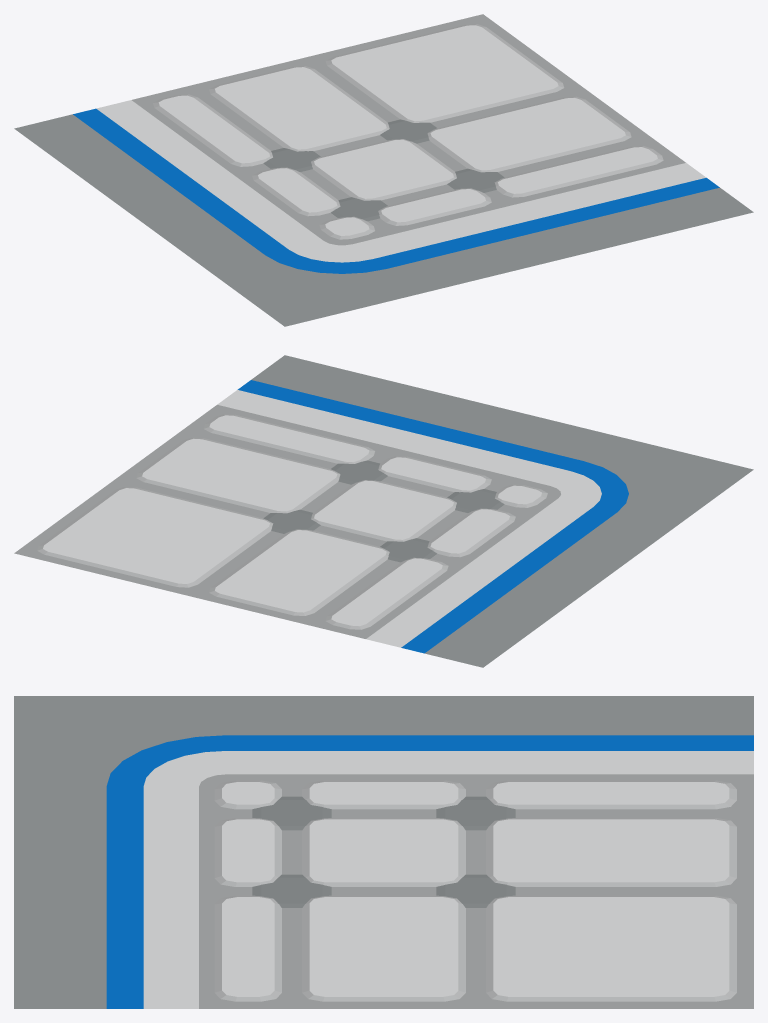
The model's file is Floor_type_A_011.glb.
3 renders of one model, top to bottom at view 1: azimuth 30°, elevation 25°; view 2: azimuth 150°, elevation 25°; view 3: azimuth 270°, elevation 25°, orthographic. The views are drawn at different scales.
Visible parts, largest first — view 1: Floor_type_A_011; view 2: Floor_type_A_011; view 3: Floor_type_A_011.
Boxes of the visible parts, x1,y1,x2,y2 form: Floor_type_A_011: (14, 14, 753, 326); Floor_type_A_011: (14, 355, 753, 667); Floor_type_A_011: (14, 696, 753, 1008).
Bounding box in the file's own units: 4 × 0.0134 × 4.
Materials: 2 (2 with a texture image).
